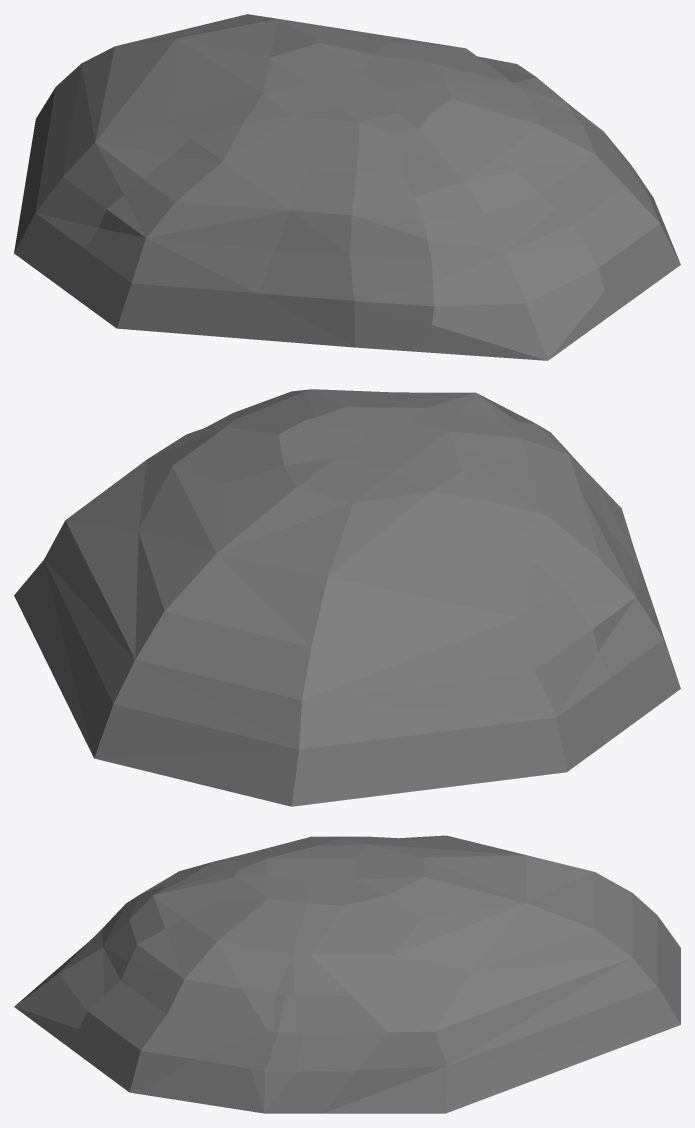
Rendered from steen1.obj.
3 renders of one model, top to bottom at view 1: azimuth 30°, elevation 25°; view 2: azimuth 150°, elevation 25°; view 3: azimuth 270°, elevation 25°, orthographic. The views are drawn at different scales.
Visible parts, largest first — view 1: Plane; view 2: Plane; view 3: Plane.
Boxes of the visible parts, left/top/right/bottom form: Plane: left=14, top=14, right=680, bottom=360; Plane: left=14, top=389, right=680, bottom=806; Plane: left=14, top=835, right=680, bottom=1113.
Bounding box in the file's own units: 5.82 × 1.79 × 7.32.
Materials: 1 (1 with a texture image).
